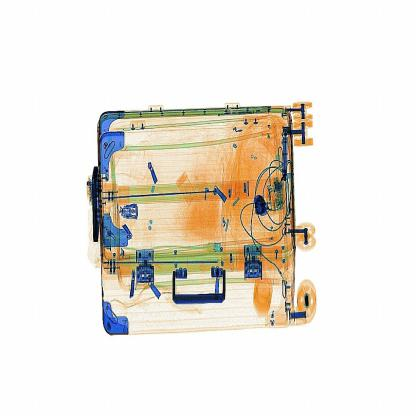scissors: (241, 182, 275, 223)
